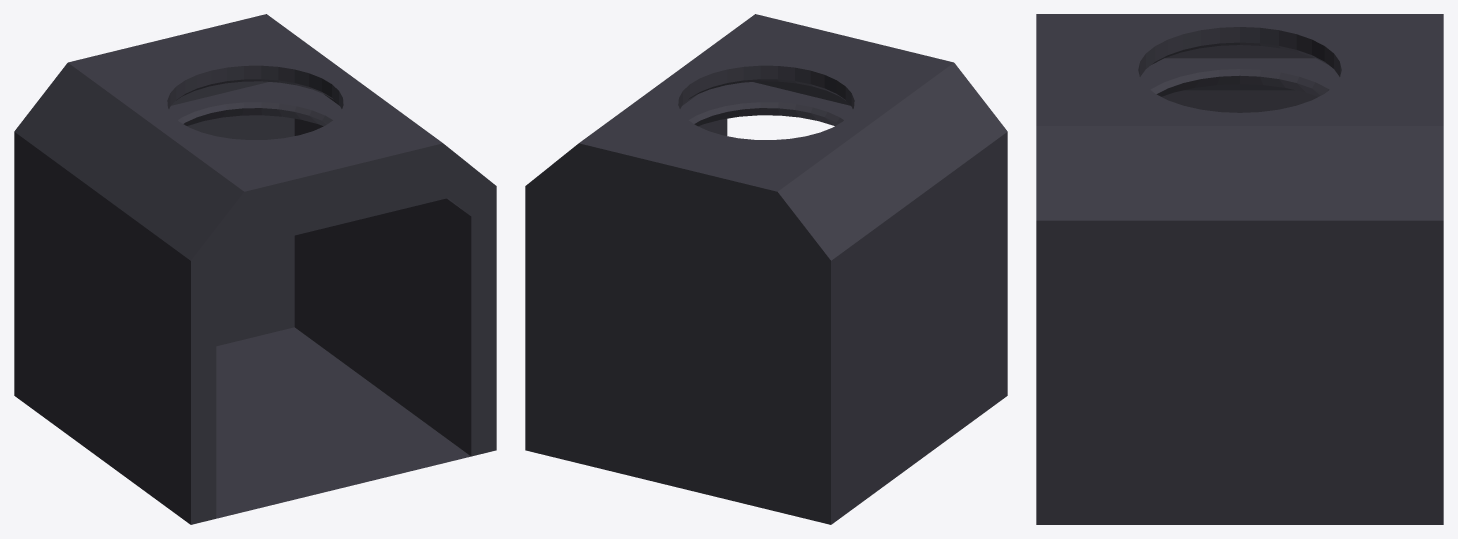
The picture shows the model from 3 angles, left to right: view 1: azimuth 30°, elevation 25°; view 2: azimuth 150°, elevation 25°; view 3: azimuth 270°, elevation 25°; orthographic projection. The views are drawn at different scales.
Parts seen in each view (by area): view 1: Base; view 2: Base; view 3: Base.
Boxes of the visible parts, x1,y1,x2,y2 form: Base: (14, 14, 496, 524); Base: (525, 14, 1007, 524); Base: (1036, 14, 1443, 524).
Size of the model in its own units: 3600 by 3600 by 3600.
